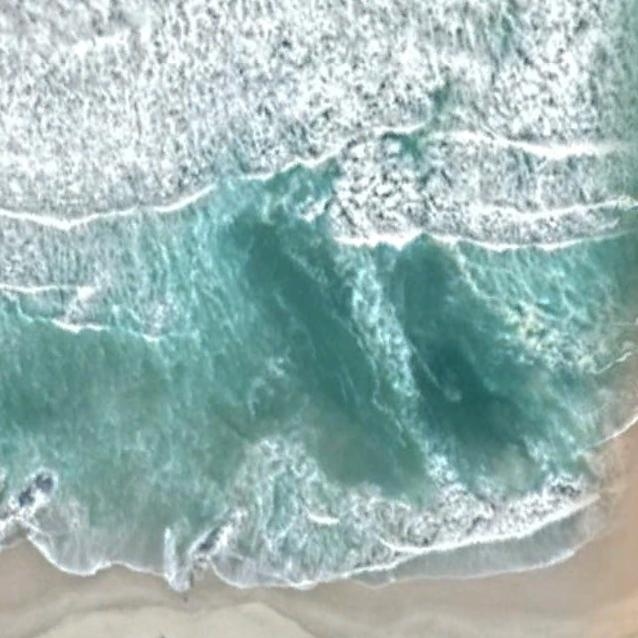rip_current: (148, 115, 427, 517)
